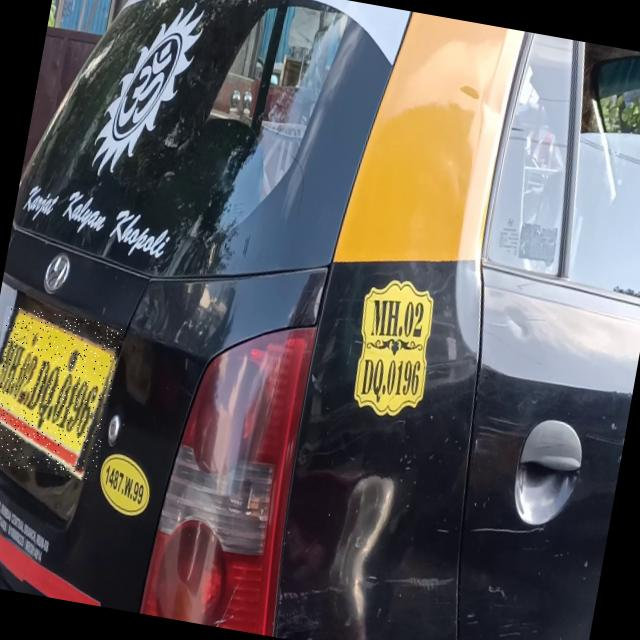Plate: (1, 306, 123, 482)
